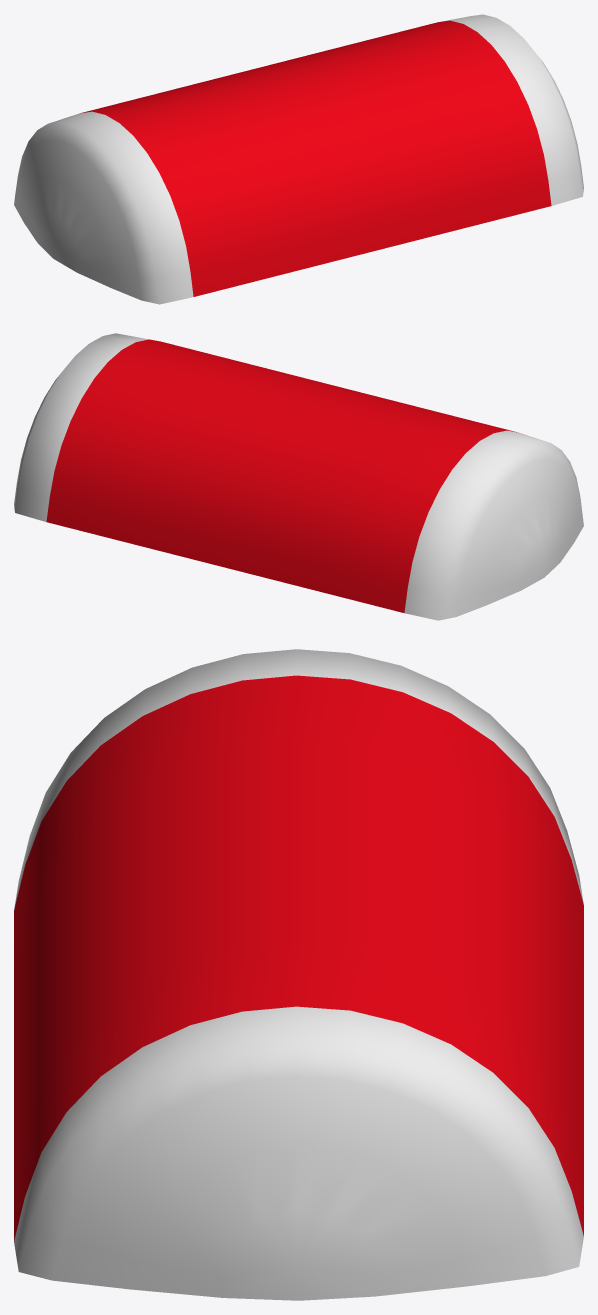
Rendered from Note.fbx.
3 renders of one model, top to bottom at view 1: azimuth 30°, elevation 25°; view 2: azimuth 150°, elevation 25°; view 3: azimuth 270°, elevation 25°, orthographic. The views are drawn at different scales.
Visible parts, largest first — view 1: Cylinder; view 2: Cylinder; view 3: Cylinder.
Part boxes in pixels (box(x1,y1,x2,y2)): Cylinder: box(14, 14, 583, 304); Cylinder: box(14, 333, 583, 620); Cylinder: box(14, 649, 583, 1300).
Bounding box in the file's own units: 193 × 46.85 × 100.
